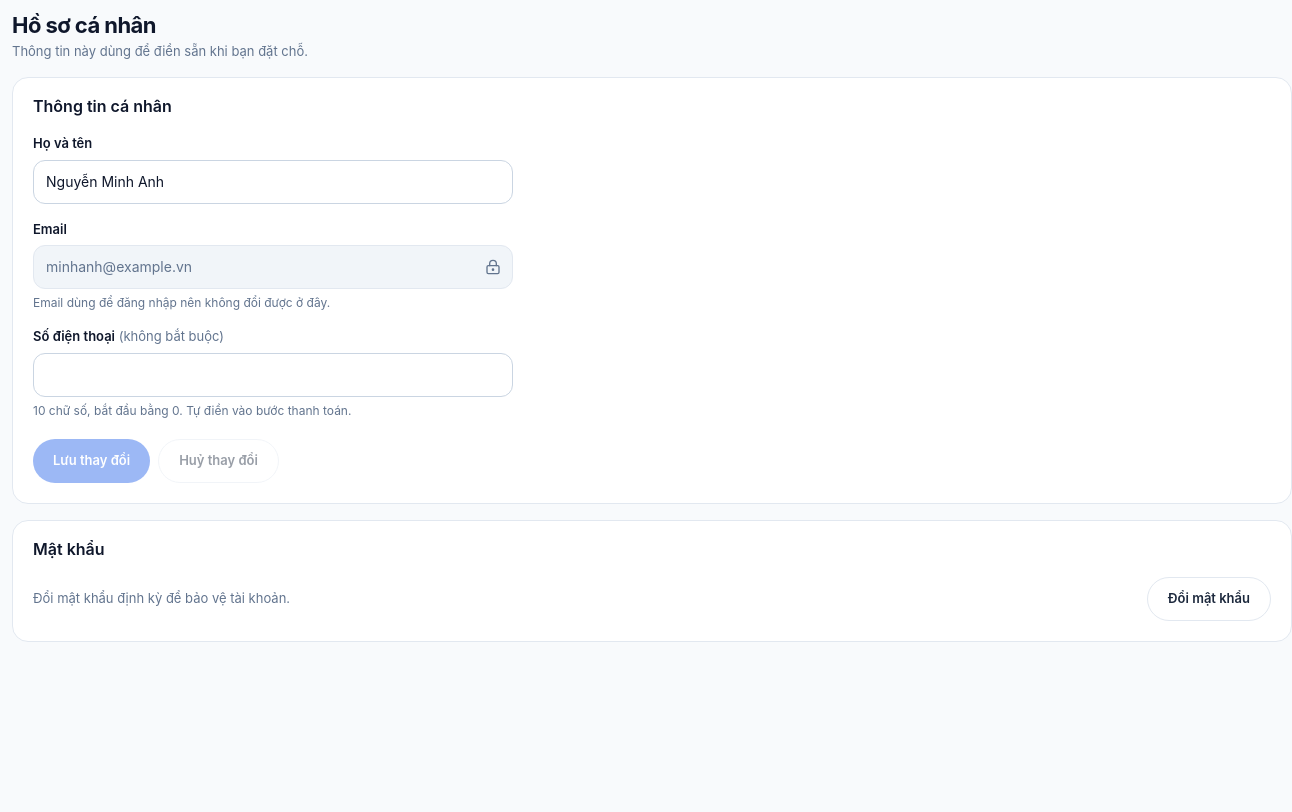
ProfileView — hồ sơ cá nhân › Huỷ thay đổi trả về giá trị đã lưu
This screenshot has width=1292, height=812.
Replace the text in the field labelled "Họ và tên" with "Gõ dở" at (273, 182), box [33,160,513,204]
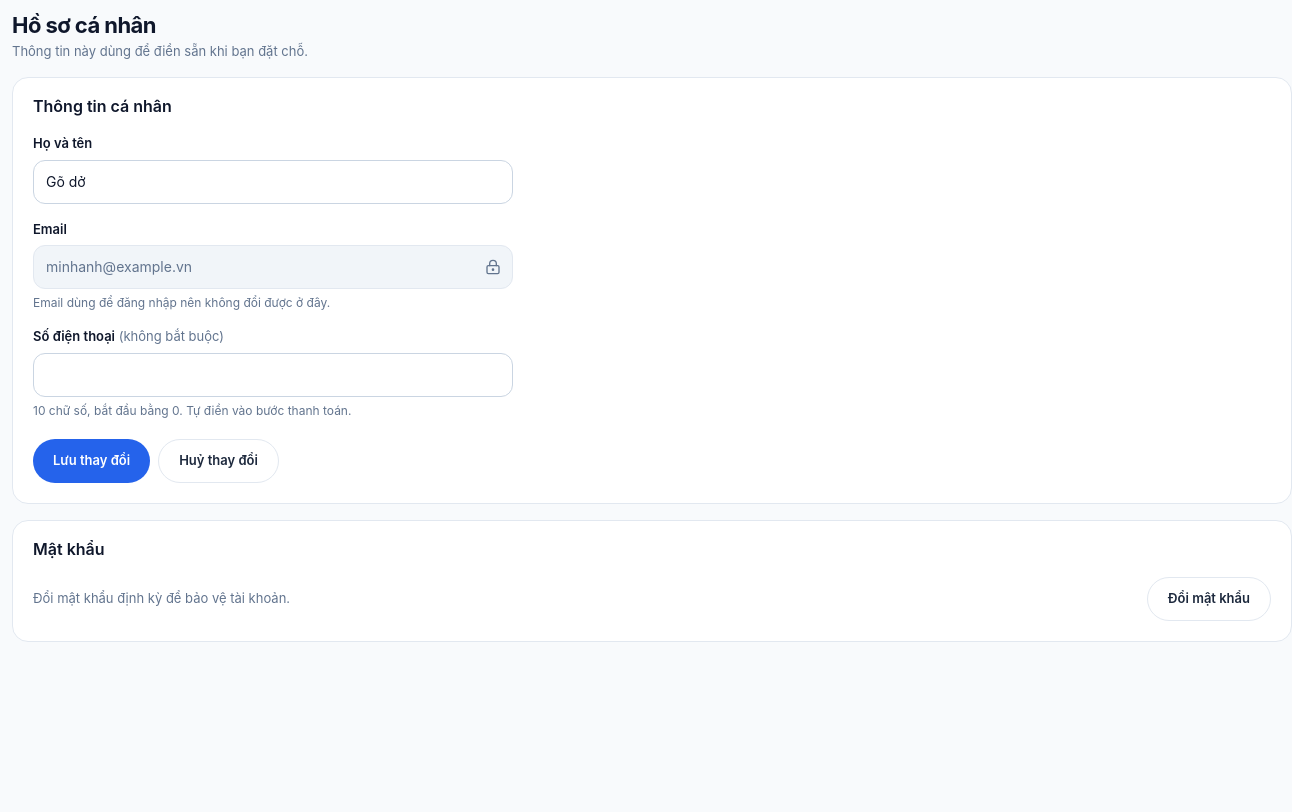
Click the button "Huỷ thay đổi".
click(219, 460)  # box [158,438,279,482]
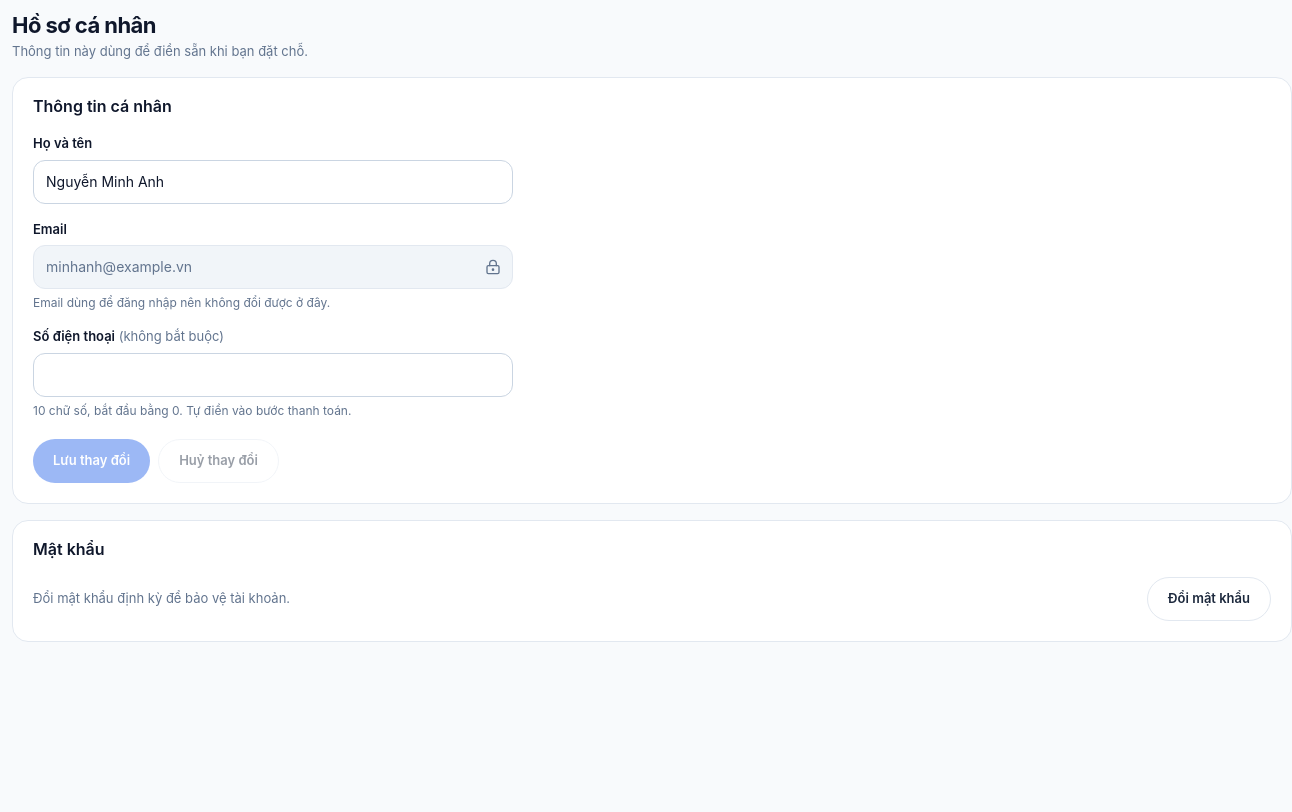
Expected: the field labelled "Họ và tên" holds "Nguyễn Minh Anh", [33,160,513,204]
Expected: the button "Lưu thay đổi" is disabled, [33,438,150,482]
